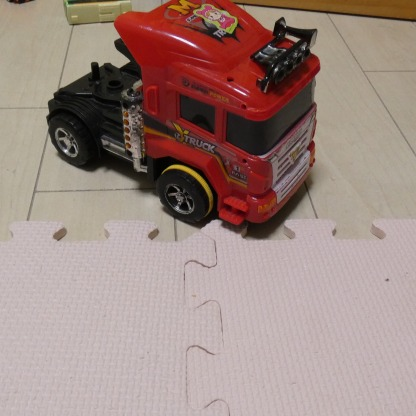car: (46, 0, 317, 238)
